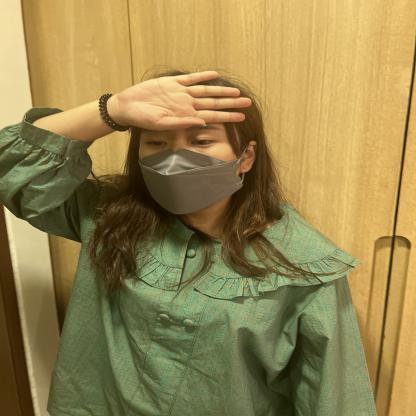Sick: (58, 64, 282, 152)
